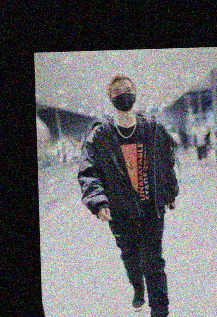with_mask: (111, 85, 137, 112)
